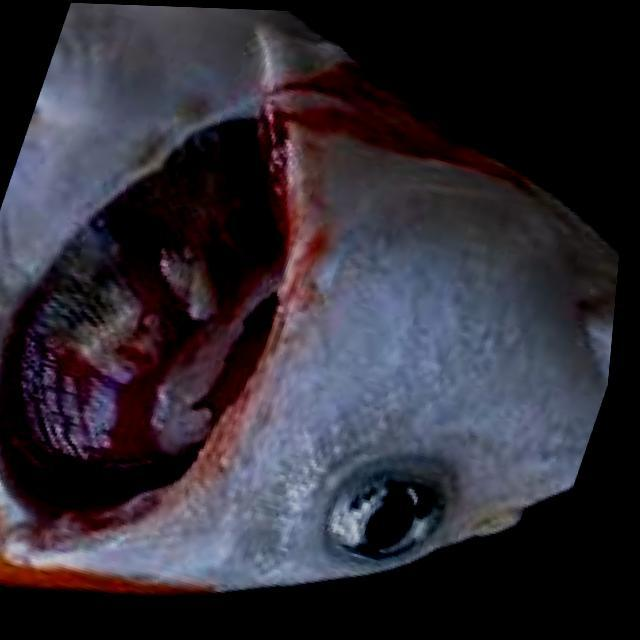Gill Disease: (0, 11, 533, 640)
